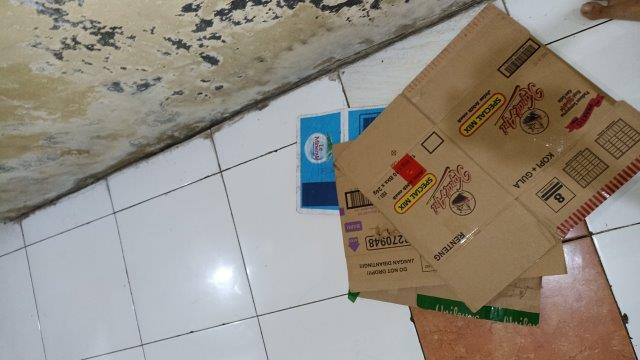kardus: (299, 7, 640, 325)
